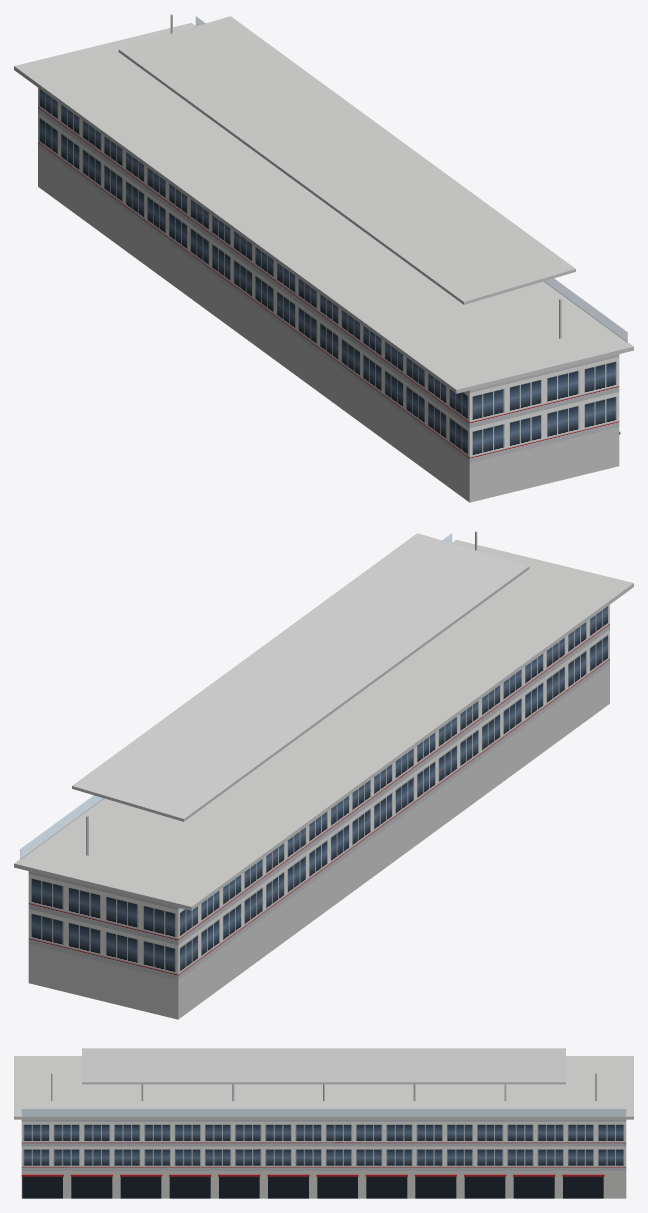
File: pit_building_80m.glb
3 views of the same model, one above another, from view 1: azimuth 30°, elevation 25°; view 2: azimuth 150°, elevation 25°; view 3: azimuth 270°, elevation 25° (orthographic). The views are drawn at different scales.
Visible parts, largest first — view 1: pits; view 2: pits; view 3: pits.
Part boxes in pixels (x1,y1,x2,y2): pits: (14, 14, 633, 502); pits: (14, 531, 633, 1019); pits: (14, 1048, 633, 1198).
Size of the model in its own units: 19 by 16.95 by 82.
Materials: 5 (1 with a texture image).
